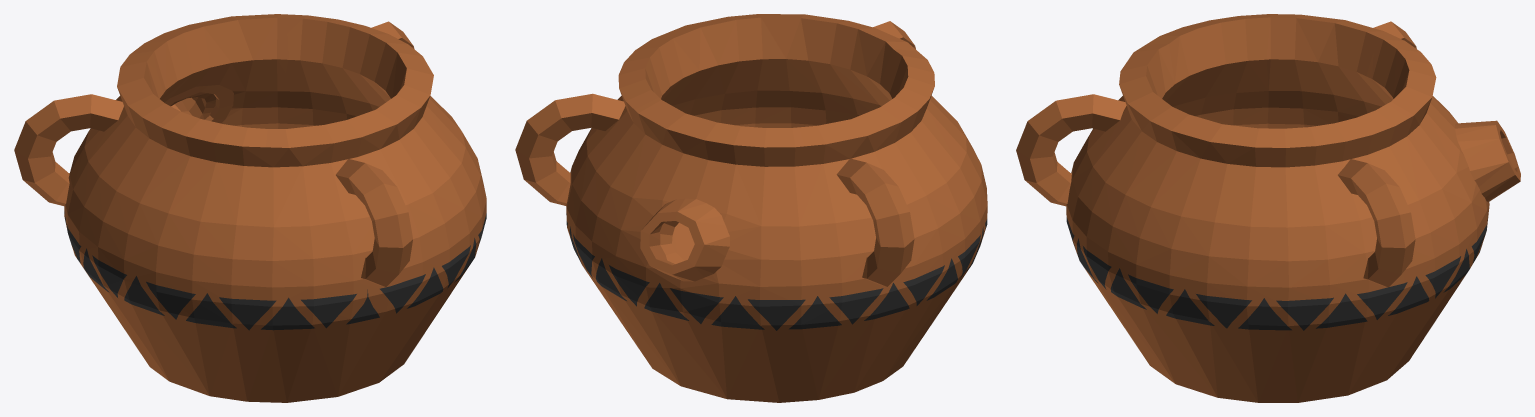
File: Pottery 19_3b.fbx
The picture shows the model from 3 angles, left to right: view 1: azimuth 30°, elevation 25°; view 2: azimuth 150°, elevation 25°; view 3: azimuth 270°, elevation 25°; orthographic projection.
Visible parts, largest first — view 1: Pottery 19_3b.003, Pottery 19_3b.005, Pottery 19_3b, Pottery 19_3b.001, Pottery 19_3b.004, Pottery 19_3b.002; view 2: Pottery 19_3b.002, Pottery 19_3b.001, Pottery 19_3b.004, Pottery 19_3b, Pottery 19_3b.003, Pottery 19_3b.005; view 3: Pottery 19_3b.004, Pottery 19_3b.003, Pottery 19_3b, Pottery 19_3b.002, Pottery 19_3b.001, Pottery 19_3b.005.
Boxes of the visible parts, bbox=[...] form: Pottery 19_3b.003: bbox=[265, 85, 482, 361]; Pottery 19_3b.005: bbox=[98, 103, 273, 356]; Pottery 19_3b: bbox=[99, 270, 466, 402]; Pottery 19_3b.001: bbox=[14, 53, 164, 291]; Pottery 19_3b.004: bbox=[275, 14, 486, 234]; Pottery 19_3b.002: bbox=[116, 14, 288, 128]; Pottery 19_3b.002: bbox=[592, 97, 806, 328]; Pottery 19_3b.001: bbox=[759, 98, 965, 344]; Pottery 19_3b.004: bbox=[515, 17, 739, 303]; Pottery 19_3b: bbox=[608, 223, 958, 402]; Pottery 19_3b.003: bbox=[721, 14, 916, 127]; Pottery 19_3b.005: bbox=[880, 49, 987, 284]; Pottery 19_3b.004: bbox=[1136, 104, 1464, 369]; Pottery 19_3b.003: bbox=[1016, 44, 1188, 332]; Pottery 19_3b: bbox=[1082, 265, 1462, 402]; Pottery 19_3b.002: bbox=[1366, 37, 1520, 290]; Pottery 19_3b.001: bbox=[1266, 14, 1416, 128]; Pottery 19_3b.005: bbox=[1147, 14, 1270, 128].
Bounding box in the file's own units: 80.26 × 53.39 × 89.42.
